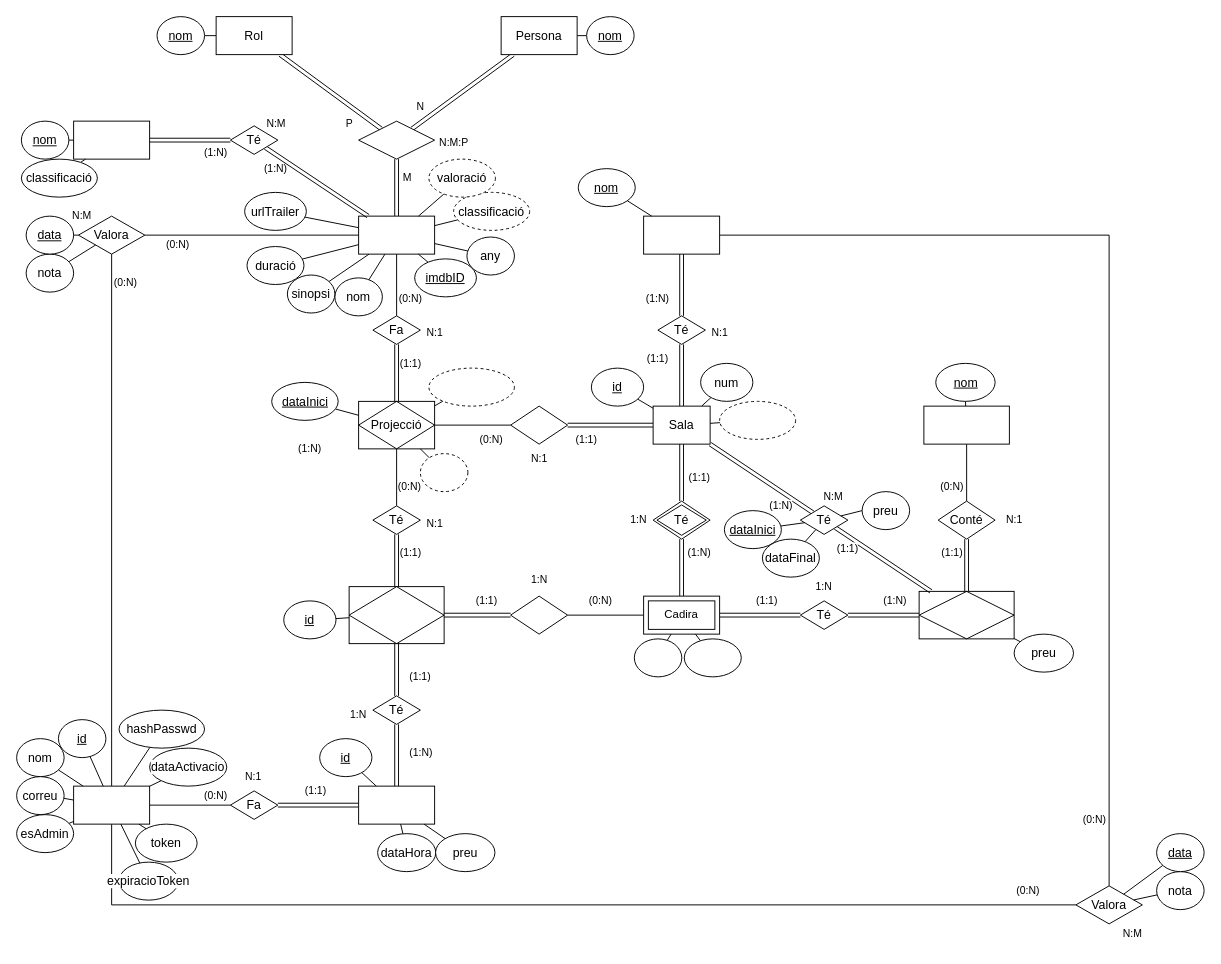
Some shapes in this 1221 by 964 pixel diagram are drawn without their labels. Here are the shapes that lost their labels. From the top down, the box of each, then its label:
(73, 120, 150, 159): Genere
(358, 120, 435, 159): Participa
(358, 215, 435, 254): Pel·licula
(643, 215, 720, 254): Cinema
(428, 367, 514, 406): placesLliures
(510, 405, 568, 444): Utilitza
(719, 400, 796, 439): qtt cadires
(923, 405, 1009, 444): TipusCadira
(419, 453, 468, 492): dataFi
(348, 586, 444, 644): ReservaCadira
(510, 595, 568, 634): Esta
(918, 590, 1014, 639): TipusCadiraSala
(633, 638, 682, 677): fila
(683, 638, 741, 677): columna
(73, 785, 150, 824): Usuari
(358, 785, 435, 824): Reserva
